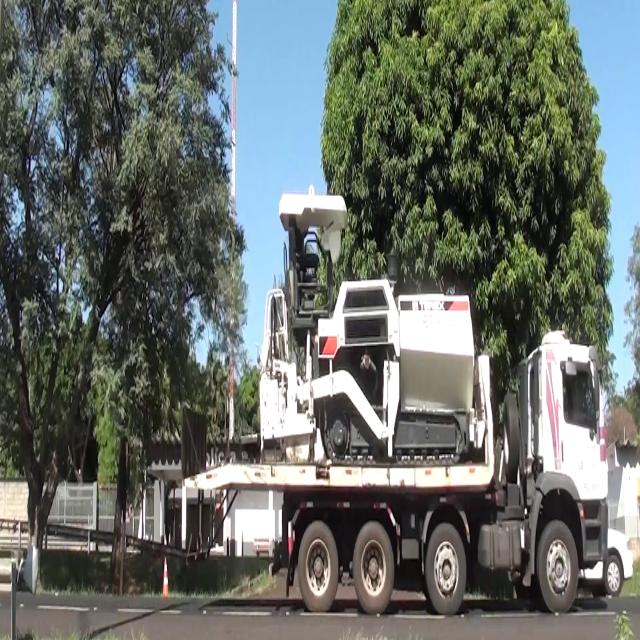-axle: (296, 520, 340, 618), (423, 522, 467, 616), (538, 518, 579, 617), (353, 524, 394, 613)
